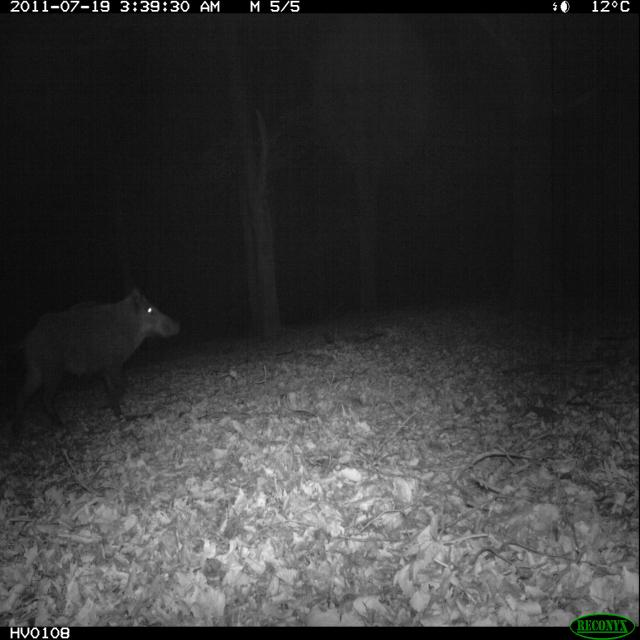boar: (0, 267, 201, 462)
